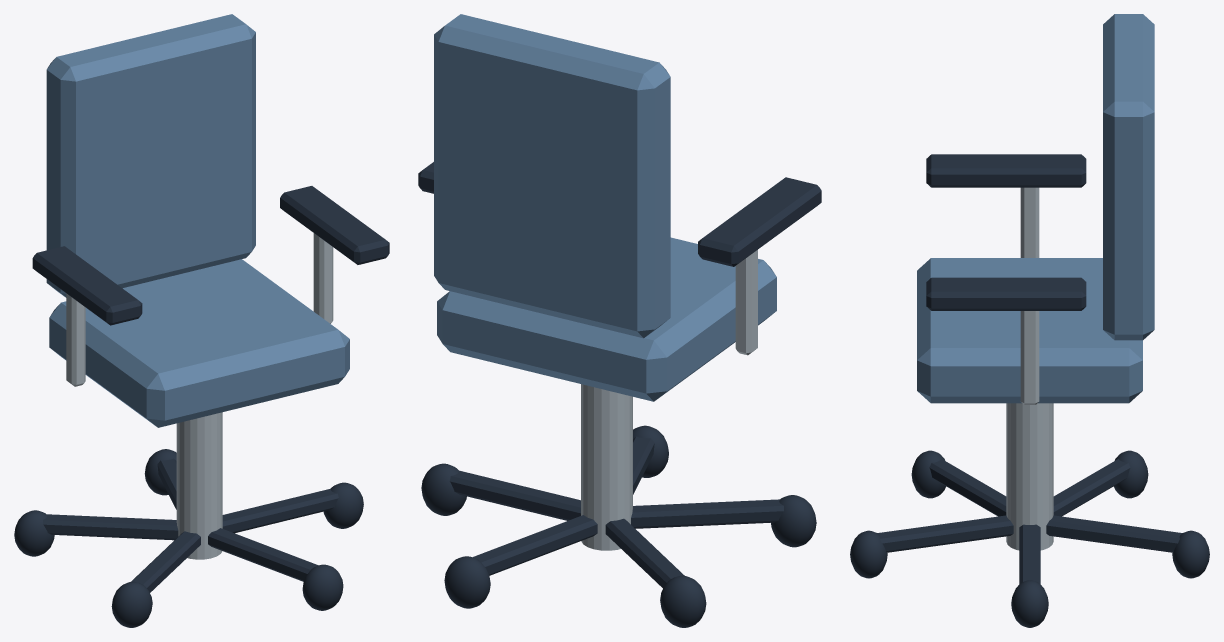
The model's file is living_08.glb.
3 renders of one model, left to right at view 1: azimuth 30°, elevation 25°; view 2: azimuth 150°, elevation 25°; view 3: azimuth 270°, elevation 25°, orthographic. The views are drawn at different scales.
Visible parts, largest first — view 1: ChairBack, ChairSeat, ChairSpoke (×5), ArmPad (×2), Wheel (×5), ChairPost, ArmSupport (×2); view 2: ChairBack, ChairSeat, ChairSpoke (×5), Wheel (×5), ChairPost, ArmPad, ArmSupport; view 3: ChairSeat, ChairBack, ArmPad (×2), ChairSpoke (×5), Wheel (×5), ChairPost, ArmSupport (×2).
Boxes of the visible parts, box(x1,y1,x2,y2) form: ChairBack: box(46, 14, 255, 297); ChairSeat: box(49, 259, 349, 427); ChairSpoke (×5): box(43, 458, 338, 592); ArmPad (×2): box(32, 186, 389, 325); Wheel (×5): box(14, 449, 363, 627); ChairPost: box(176, 412, 222, 559); ArmSupport (×2): box(66, 233, 333, 386); ChairBack: box(434, 14, 670, 338); ChairSeat: box(437, 237, 776, 401); ChairSpoke (×5): box(449, 436, 783, 588); Wheel (×5): box(421, 425, 816, 627); ChairPost: box(581, 384, 632, 550); ArmPad: box(698, 177, 821, 266); ArmSupport: box(735, 250, 757, 355); ChairSeat: box(917, 258, 1142, 403); ChairBack: box(1103, 14, 1154, 340); ArmPad (×2): box(926, 154, 1086, 310); ChairSpoke (×5): box(877, 459, 1182, 583); Wheel (×5): box(850, 450, 1209, 627); ChairPost: box(1006, 403, 1053, 550); ArmSupport (×2): box(1020, 187, 1039, 404).
Size of the model in its own units: 0.761 by 1.17 by 0.7648.
